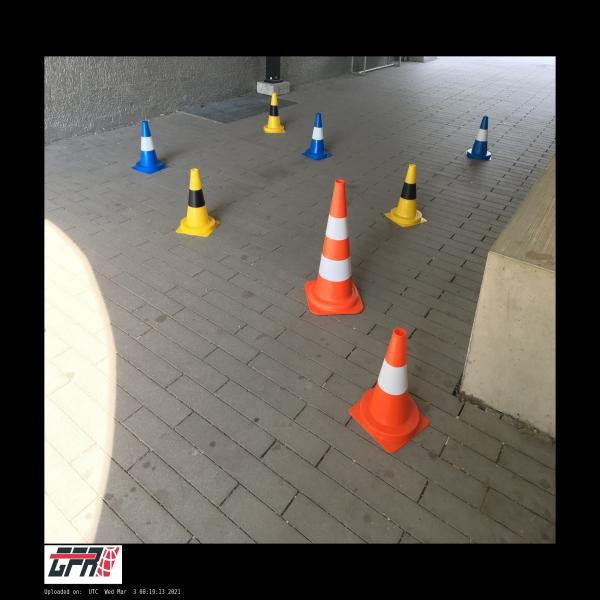blue_cone: (132, 121, 168, 174), (302, 113, 332, 160), (467, 116, 491, 161)
large_orange_cone: (305, 180, 363, 315)
orange_cone: (349, 328, 430, 454)
yellow_cone: (176, 169, 220, 237), (384, 164, 427, 227), (263, 94, 286, 134)
